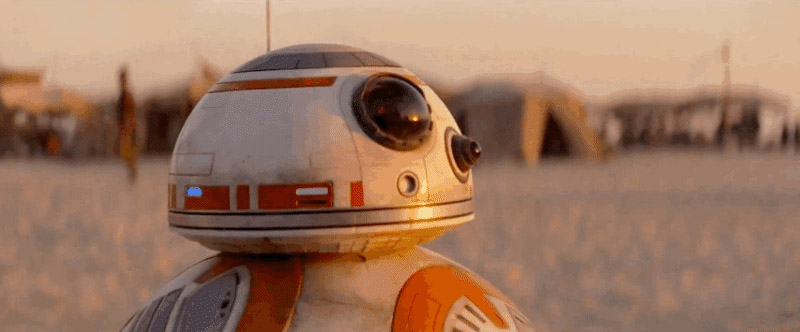bb8: (116, 43, 541, 332)
